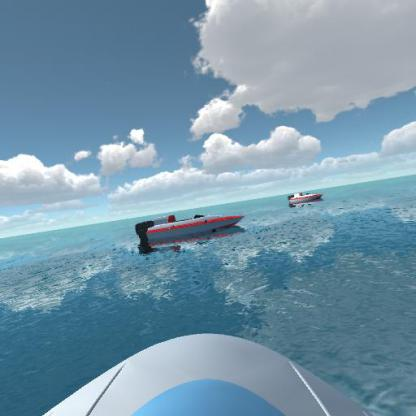usv3: (130, 208, 247, 251), (288, 187, 324, 210)
